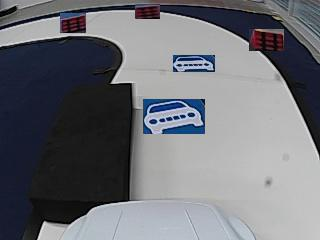block: (36, 83, 133, 213)
